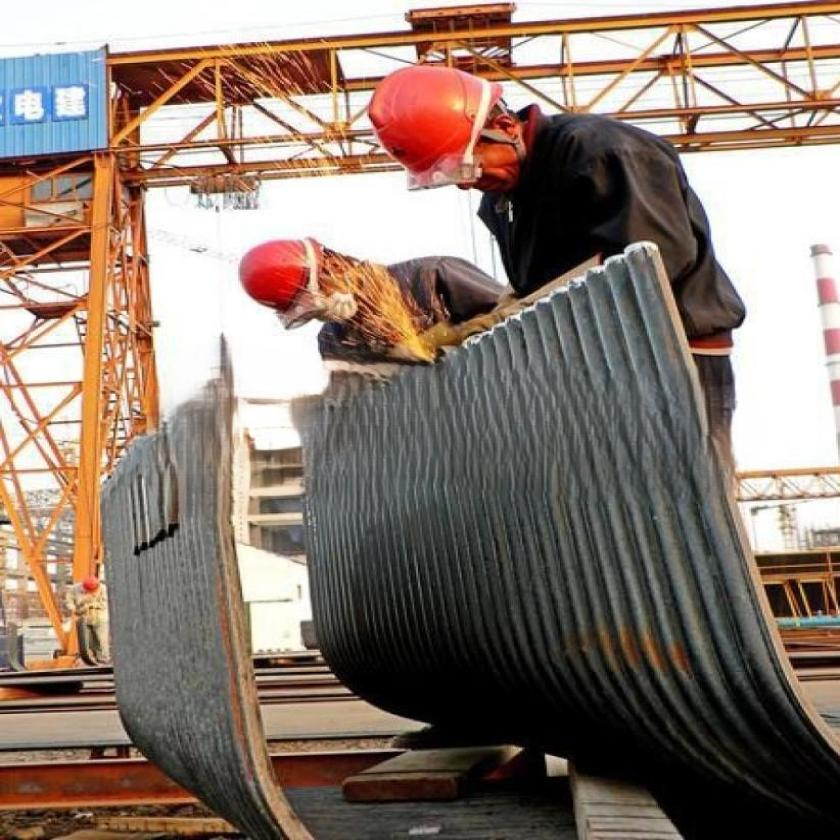Con_casco: (350, 73, 548, 198), (221, 230, 385, 356)
